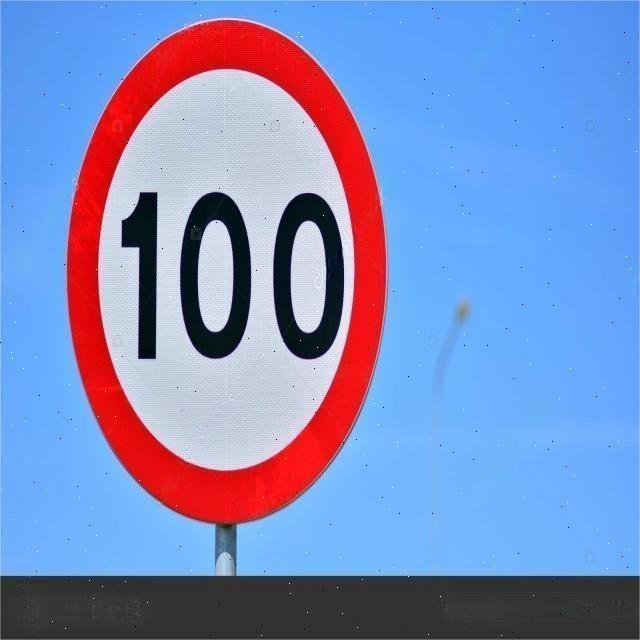speed limit 100: (66, 18, 390, 528)
